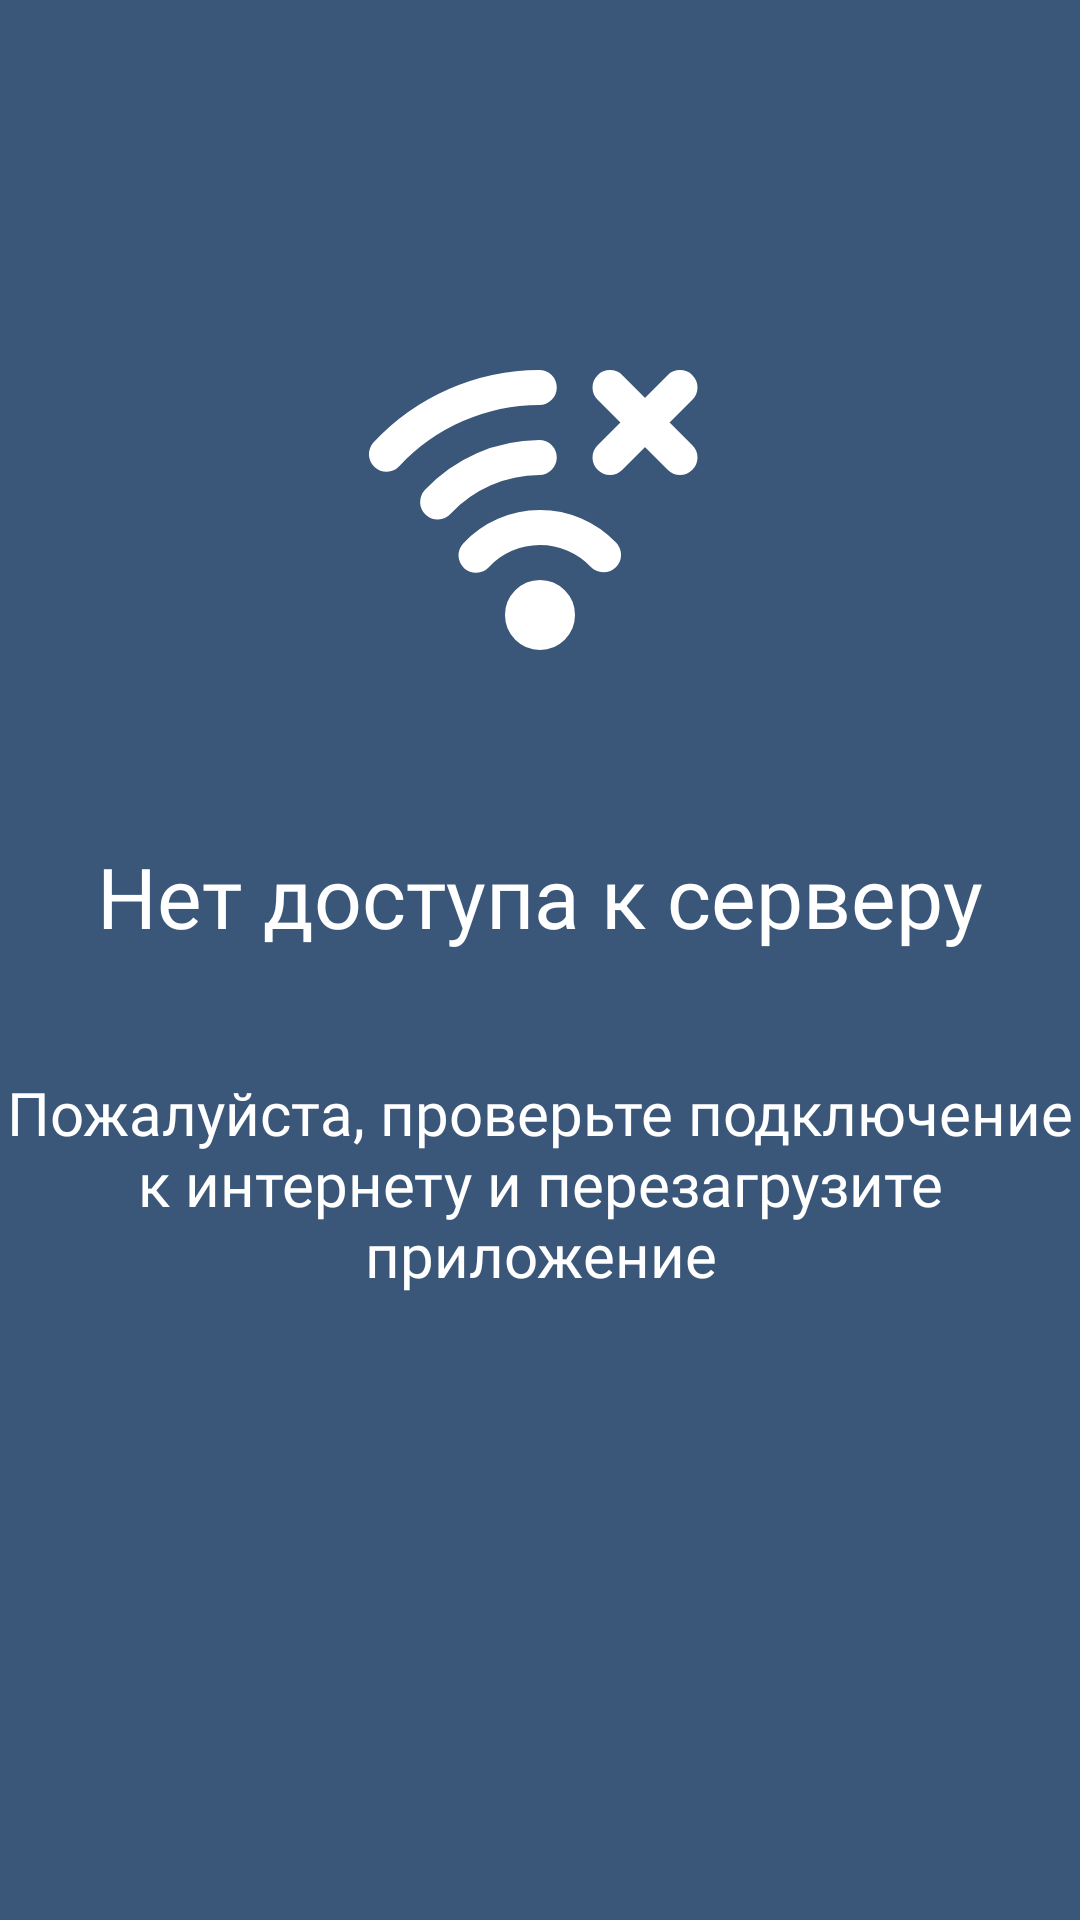

Screen size 1080×1920. Icon name, then its box in pixels as (x1, y1, x2, y2):
no connection: (369, 370, 698, 650)
